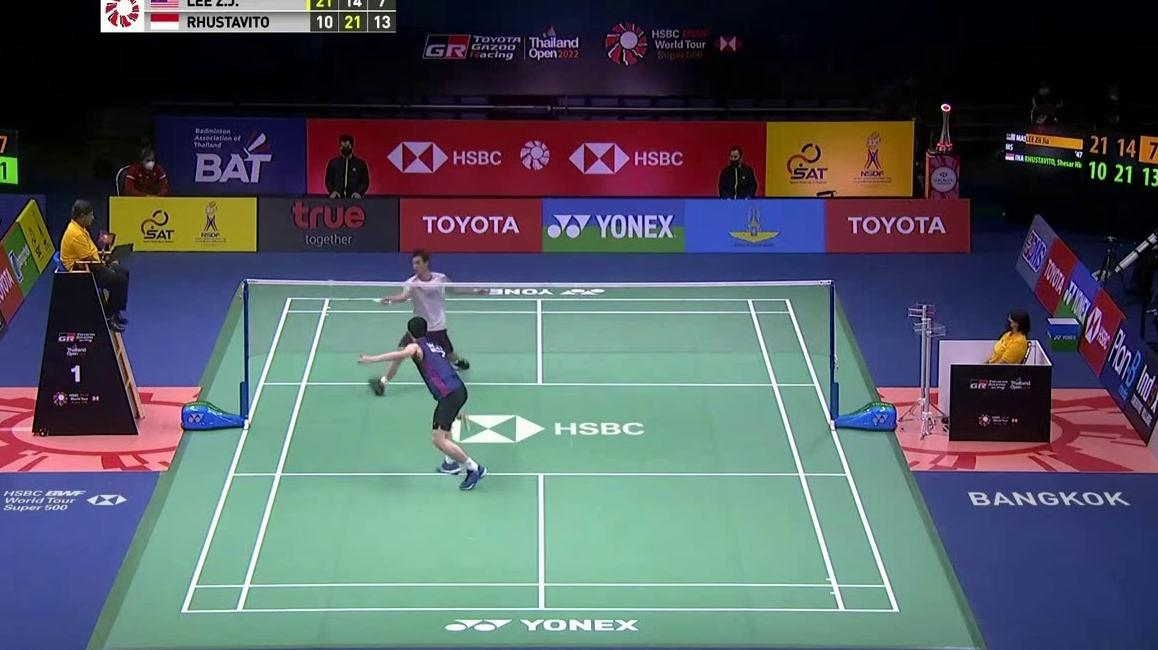racket: (326, 294, 385, 314), (456, 407, 472, 433)
shuttle: (327, 278, 335, 289)
